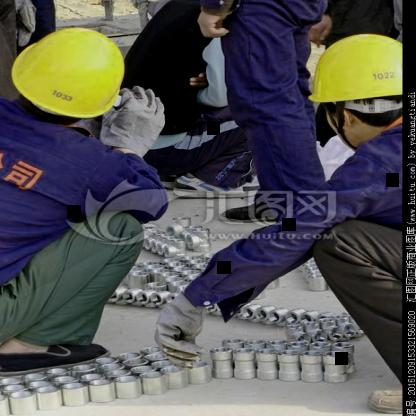helmet: (13, 23, 129, 132), (308, 29, 402, 152)
